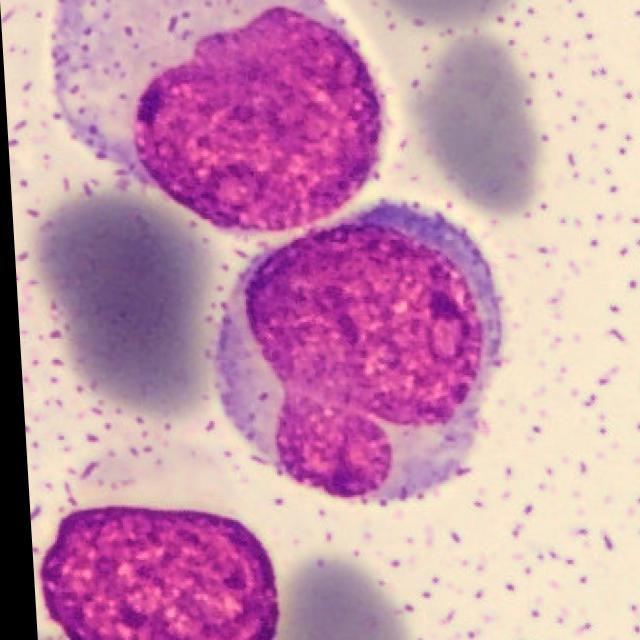Mieloblasto: (206, 198, 501, 503), (53, 0, 386, 232), (32, 505, 273, 640)
